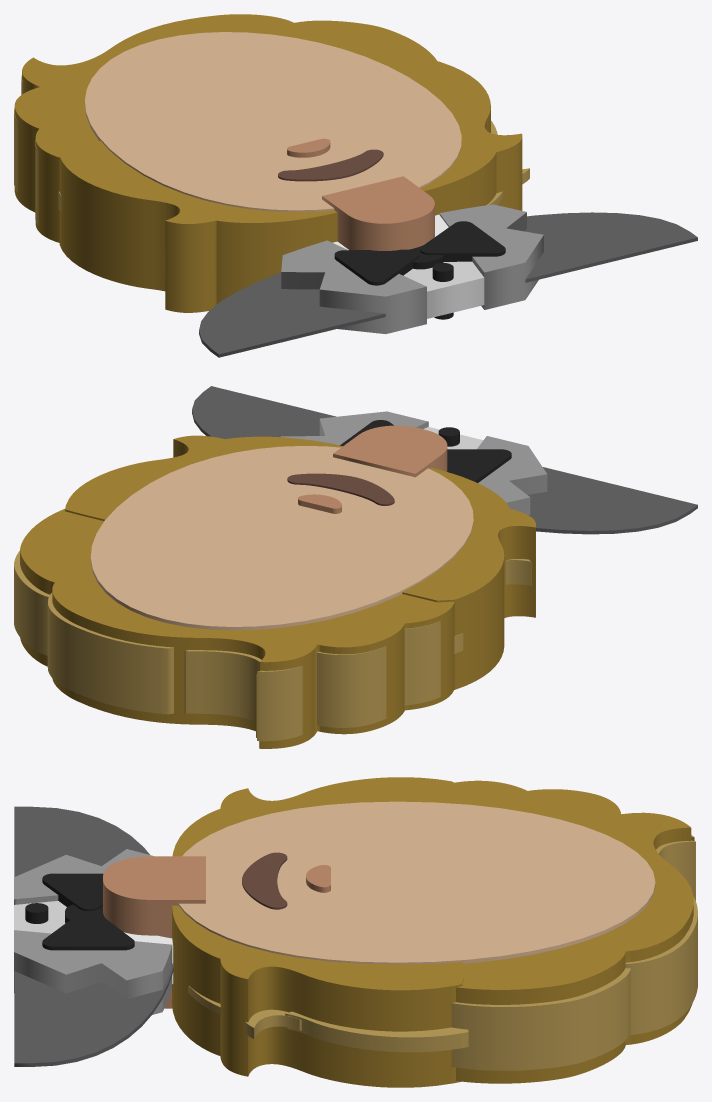
File: emoji_u1f935_1f3fc.glb
3 views of the same model, one above another, from view 1: azimuth 30°, elevation 25°; view 2: azimuth 150°, elevation 25°; view 3: azimuth 270°, elevation 25° (orthographic). The views are drawn at different scales.
Parts seen in each view (by area): view 1: emoji_u1f935_1f3fc; view 2: emoji_u1f935_1f3fc; view 3: emoji_u1f935_1f3fc.
Part boxes in pixels (left/top/right/bottom): emoji_u1f935_1f3fc: left=14, top=14, right=697, bottom=357; emoji_u1f935_1f3fc: left=14, top=386, right=697, bottom=748; emoji_u1f935_1f3fc: left=14, top=777, right=697, bottom=1087.
Size of the model in its own units: 0.0294 by 0.006 by 0.0331.
